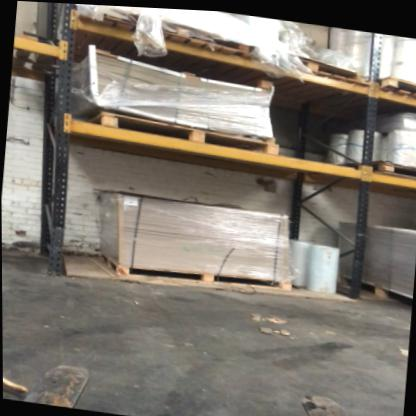vertical_damage: (49, 209, 74, 244)
